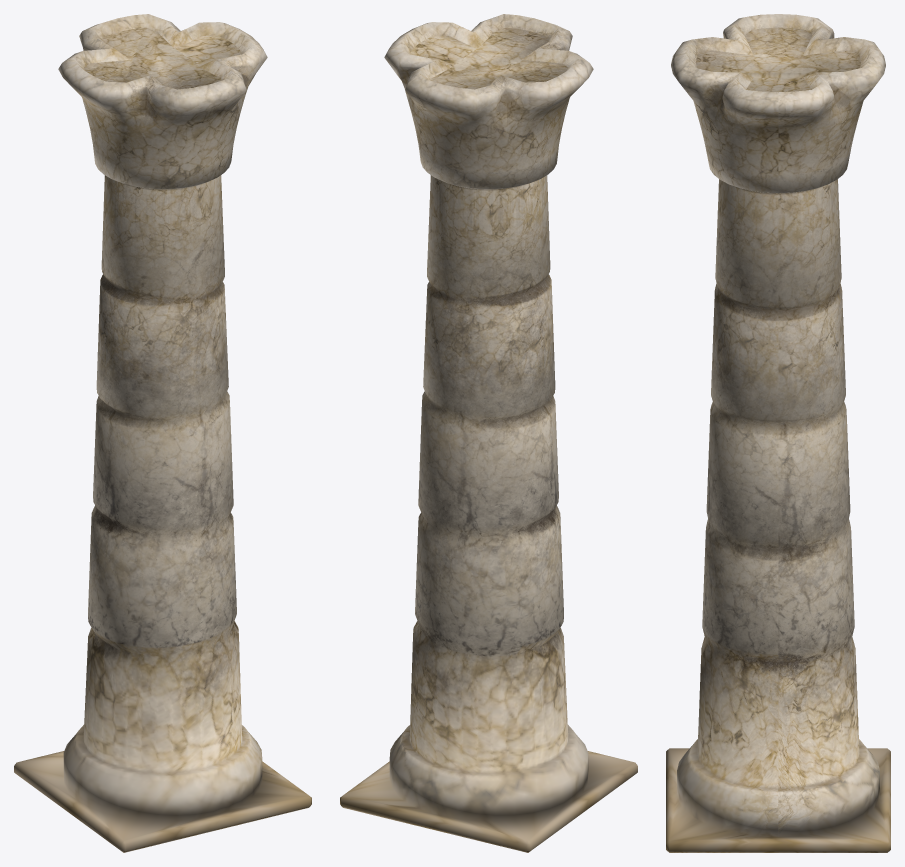
File: tower.obj
The picture shows the model from 3 angles, left to right: view 1: azimuth 30°, elevation 25°; view 2: azimuth 150°, elevation 25°; view 3: azimuth 270°, elevation 25°; orthographic projection.
Visible parts, largest first — view 1: Pillar_Cylinder; view 2: Pillar_Cylinder; view 3: Pillar_Cylinder.
Part boxes in pixels (x1,y1,x2,y2): Pillar_Cylinder: (14,14,311,852); Pillar_Cylinder: (340,14,637,852); Pillar_Cylinder: (666,14,890,852).
Bounding box in the file's own units: 0.7732 × 2.86 × 0.7732.
